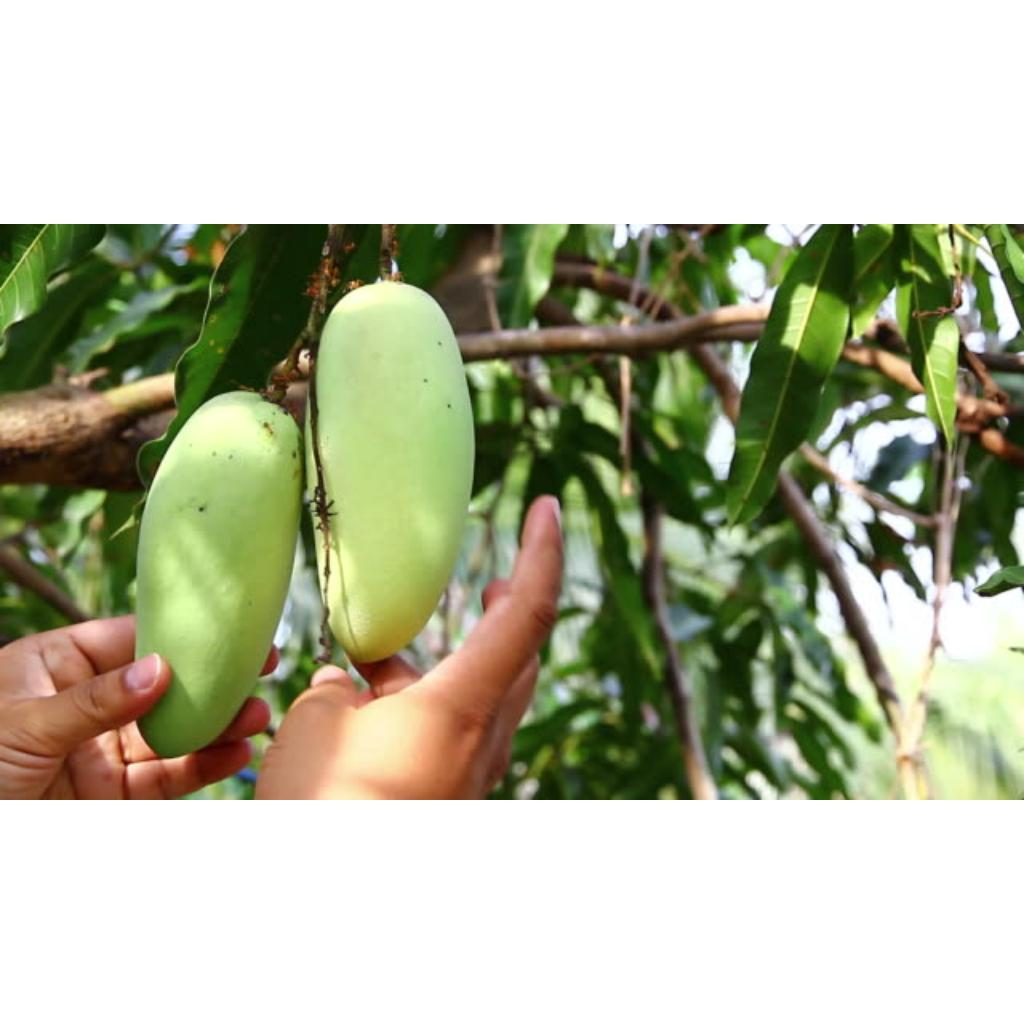mango: (306, 280, 474, 662), (136, 392, 302, 757)
